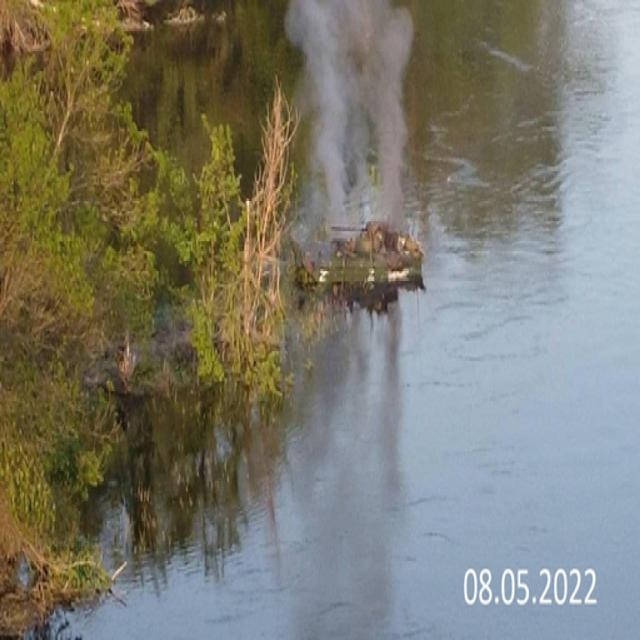APC-IFV: (290, 211, 426, 309)
